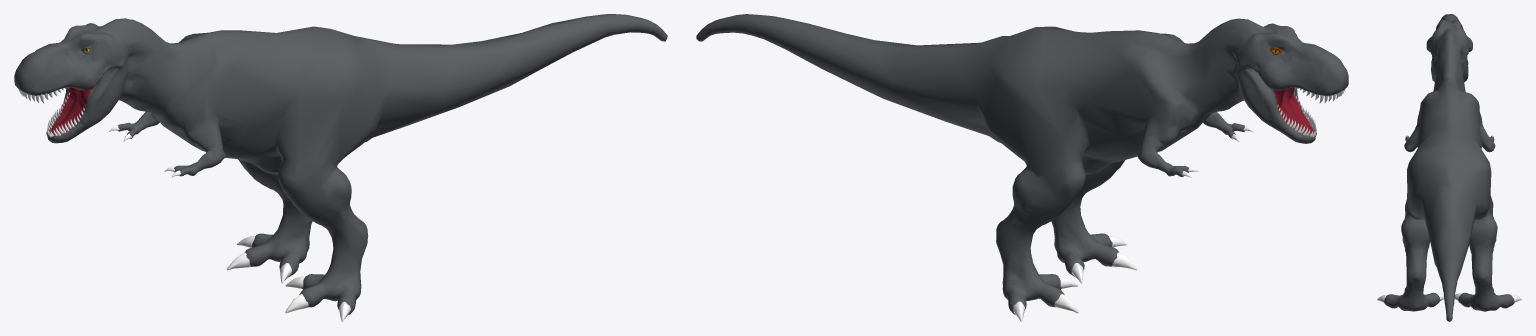
The model's file is rex1.obj.
The picture shows the model from 3 angles, left to right: view 1: azimuth 30°, elevation 25°; view 2: azimuth 150°, elevation 25°; view 3: azimuth 270°, elevation 25°; orthographic projection. The views are drawn at different scales.
Parts seen in each view (by area): view 1: T-Rex_Model_T-Rex_Model_Material.001, T-Rex_Model_T-Rex_Model_Material.003, T-Rex_Model_T-Rex_Model_Material.004; view 2: T-Rex_Model_T-Rex_Model_Material.001, T-Rex_Model_T-Rex_Model_Material.003, T-Rex_Model_T-Rex_Model_Material.004; view 3: T-Rex_Model_T-Rex_Model_Material.001, T-Rex_Model_T-Rex_Model_Material.003.
Part boxes in pixels (x1,y1,x2,y2): T-Rex_Model_T-Rex_Model_Material.001: [14, 14, 667, 315]; T-Rex_Model_T-Rex_Model_Material.003: [18, 87, 350, 321]; T-Rex_Model_T-Rex_Model_Material.004: [49, 84, 96, 134]; T-Rex_Model_T-Rex_Model_Material.001: [696, 14, 1348, 314]; T-Rex_Model_T-Rex_Model_Material.003: [1012, 87, 1344, 321]; T-Rex_Model_T-Rex_Model_Material.004: [1273, 87, 1314, 134]; T-Rex_Model_T-Rex_Model_Material.001: [1384, 14, 1514, 321]; T-Rex_Model_T-Rex_Model_Material.003: [1377, 135, 1521, 302].
Size of the model in its own units: 45.08 by 20.52 by 12.66.
